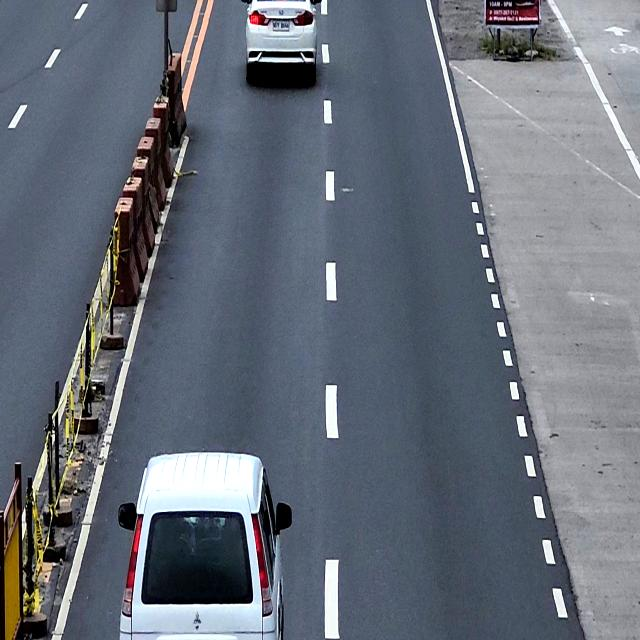Car: (118, 451, 292, 639), (242, 0, 318, 82)
License-Plate: (271, 18, 290, 31)
